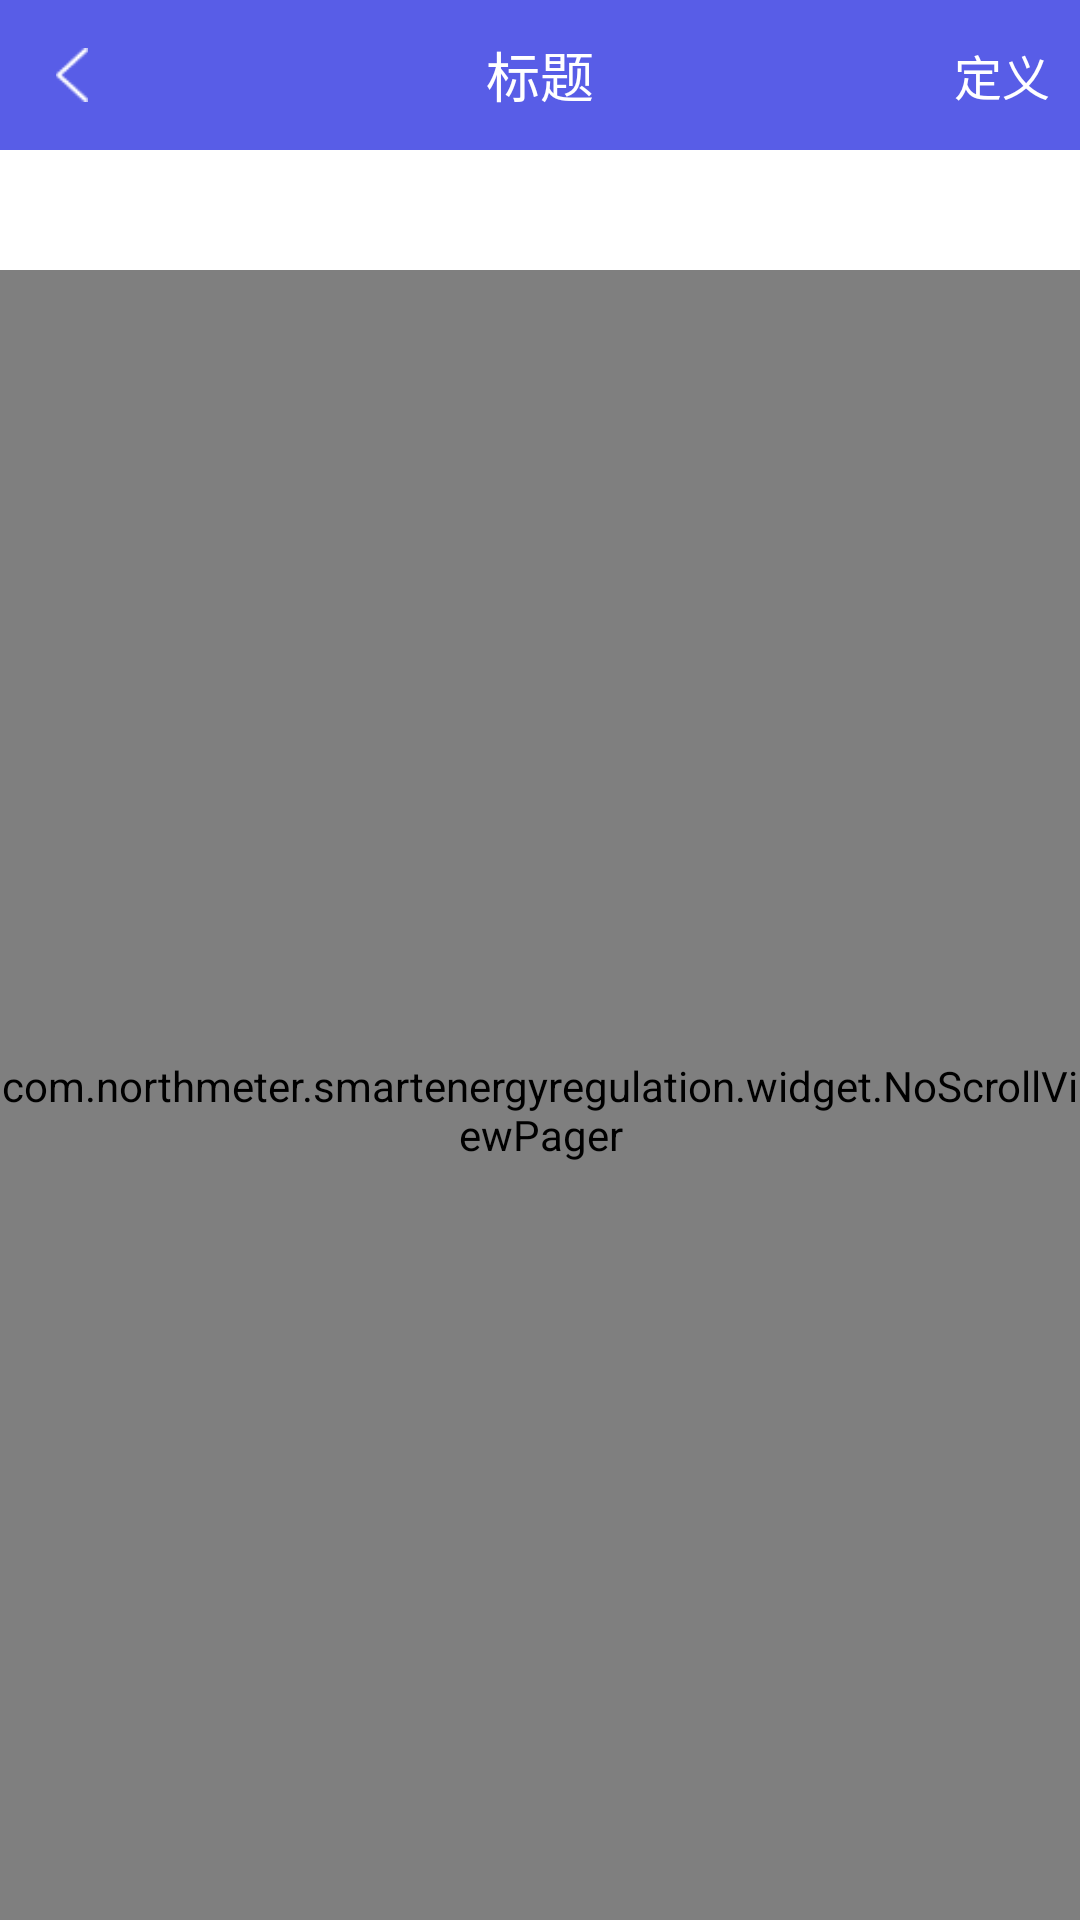

Where icons sit on this 1080px x 1920px app screen, as (x1, y1, x2, y2):
back: (56, 48, 88, 102)
